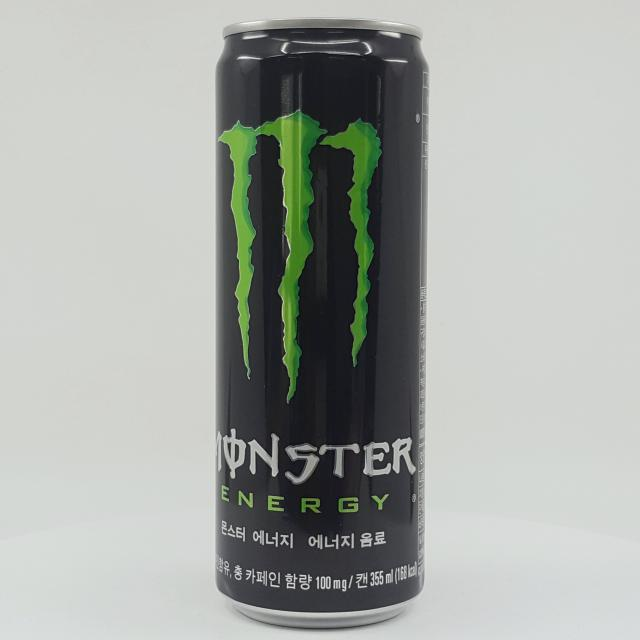--------355ML: (215, 17, 429, 628)
